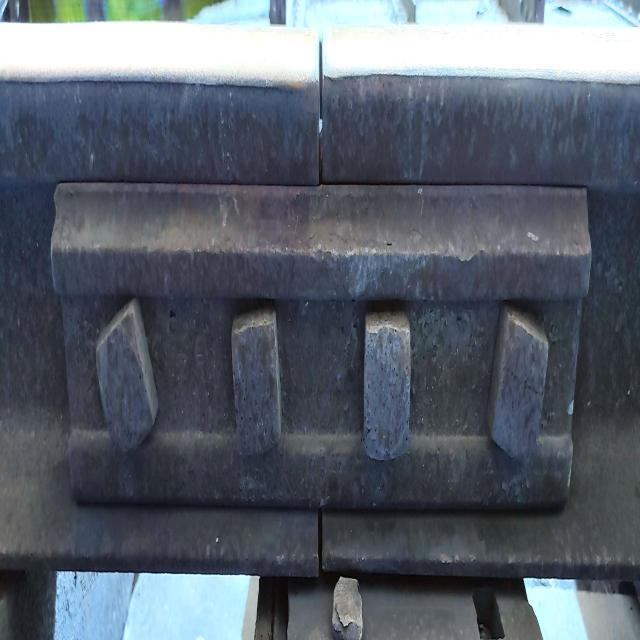Good Joint: (26, 42, 608, 612)
